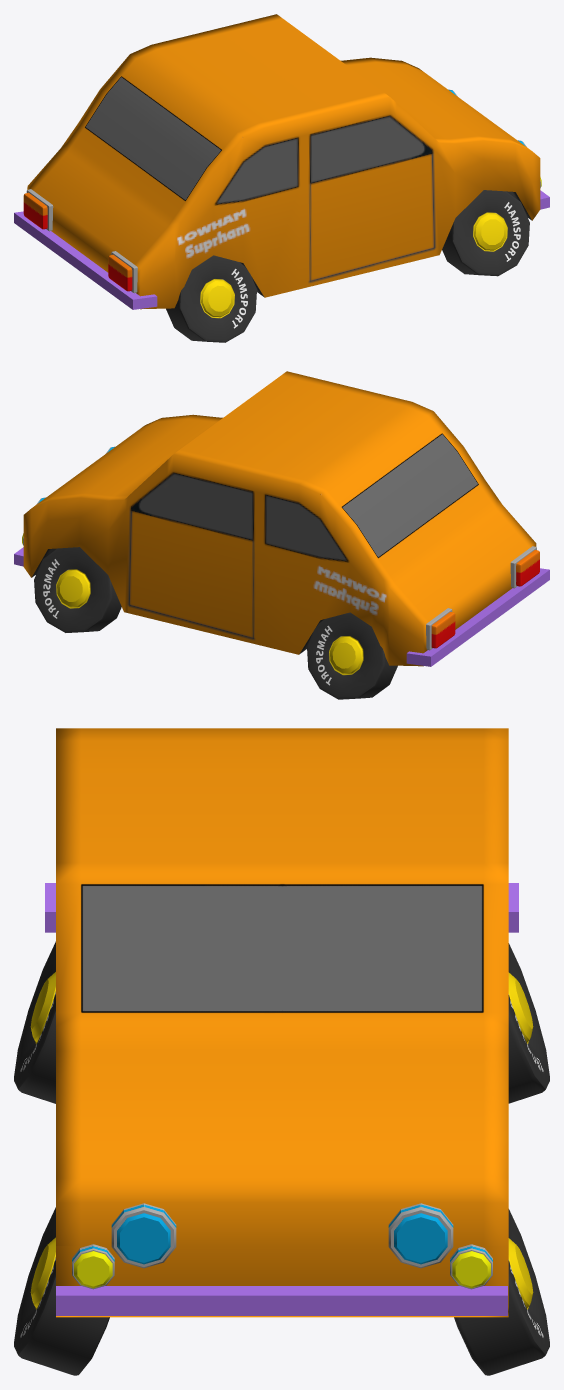
The model's file is LOWHAM_OLD.fbx.
3 renders of one model, top to bottom at view 1: azimuth 30°, elevation 25°; view 2: azimuth 150°, elevation 25°; view 3: azimuth 270°, elevation 25°, orthographic. The views are drawn at different scales.
Parts seen in each view (by area): view 1: polySurface55; view 2: polySurface55; view 3: polySurface55.
Part boxes in pixels (x1=…): polySurface55: x1=14, y1=14, x2=549, y2=342; polySurface55: x1=14, y1=371, x2=549, y2=699; polySurface55: x1=14, y1=728, x2=549, y2=1375.
Bounding box in the file's own units: 261 × 122 × 145.
